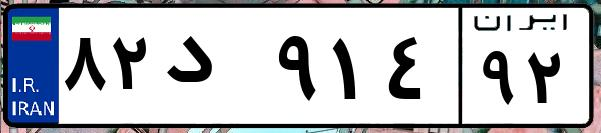1: (330, 28, 385, 110)
2: (525, 38, 570, 115), (110, 28, 158, 98)
4: (385, 28, 445, 110)
8: (57, 26, 110, 100)
9: (270, 28, 330, 110), (475, 38, 525, 113)
د: (158, 20, 270, 120)
